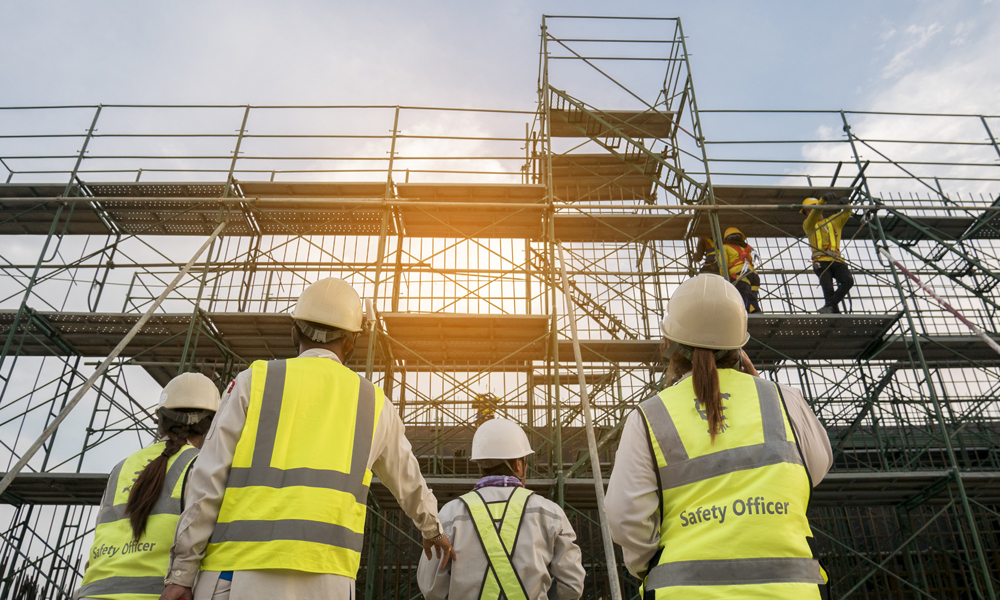Hard Hat: (661, 279, 749, 345), (295, 278, 362, 331), (468, 418, 535, 460), (152, 371, 220, 410), (802, 194, 819, 210), (723, 226, 749, 235)
High Viz: (640, 386, 817, 594), (222, 354, 365, 553), (81, 444, 197, 598), (812, 223, 840, 259)
